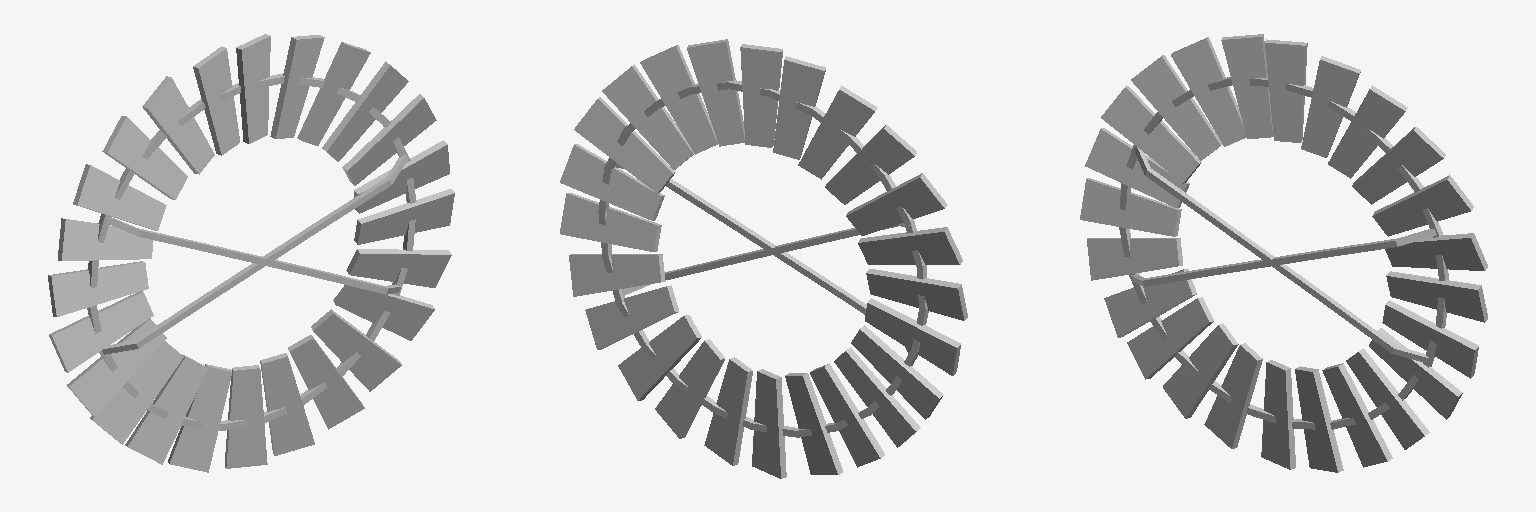
Rendered from wind_mill_wheel.obj.
3 renders of one model, left to right at view 1: azimuth 30°, elevation 25°; view 2: azimuth 150°, elevation 25°; view 3: azimuth 330°, elevation 25°, orthographic.
Parts seen in each view (by area): view 1: Cube; view 2: Cube; view 3: Cube.
Boxes of the visible parts, x1,y1,x2,y2 form: Cube: [48, 34, 454, 472]; Cube: [560, 39, 967, 478]; Cube: [1080, 34, 1487, 472].
Size of the model in its own units: 2.07 by 2.09 by 0.1644.